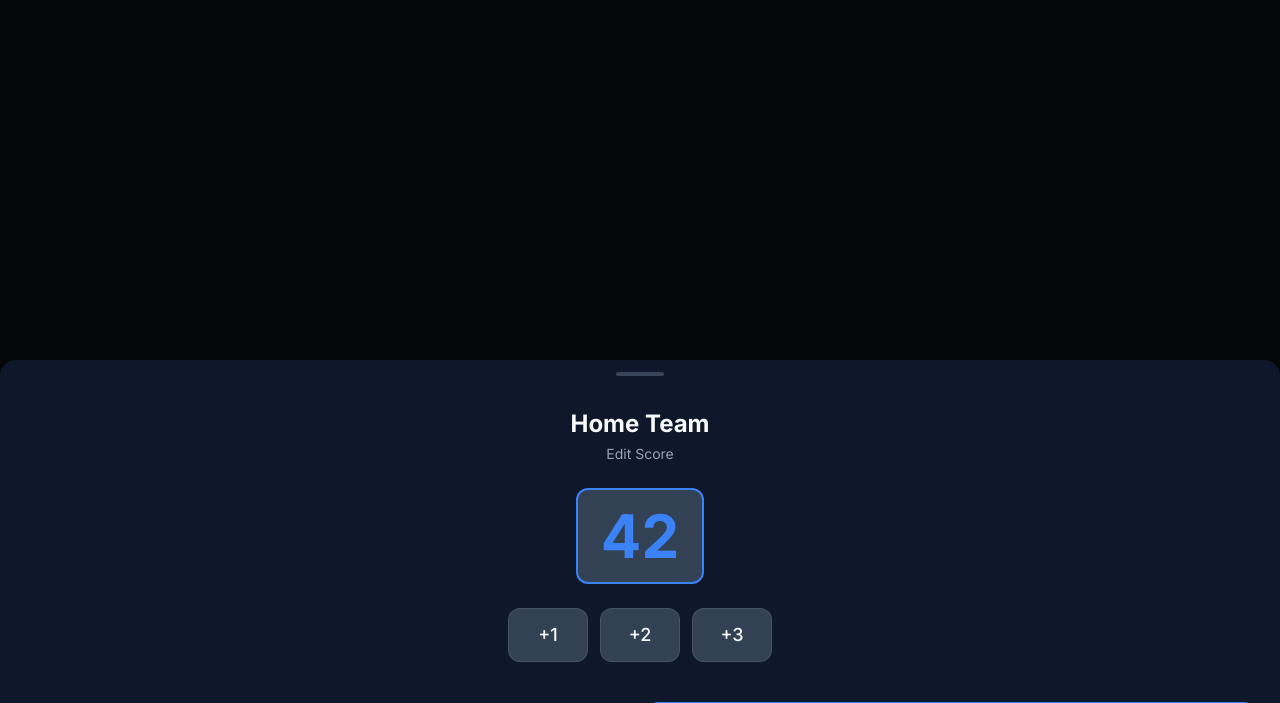
Test: ScoreEditSheet › quick increment buttons › should increment score by 1
Click the button "+1" at (548, 635), box x1=508 y1=608 x2=588 y2=662
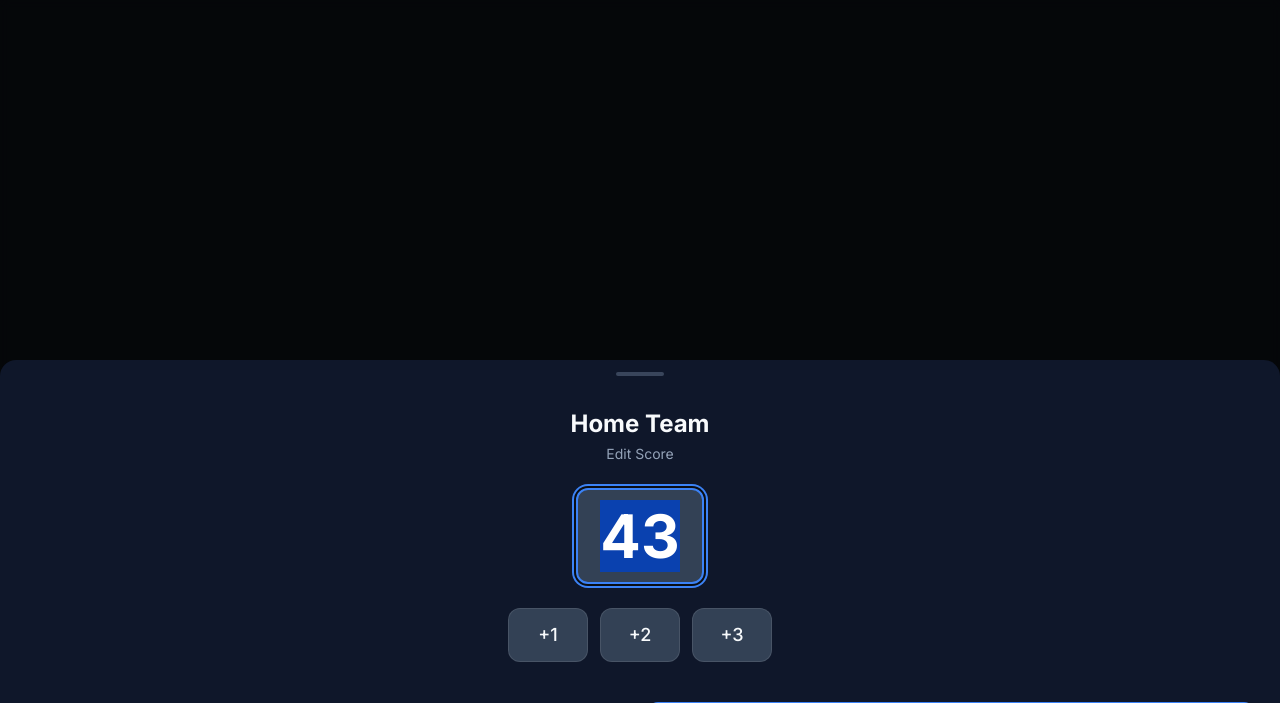
Now the field showing "42" holds "43", box x1=576 y1=488 x2=704 y2=584
